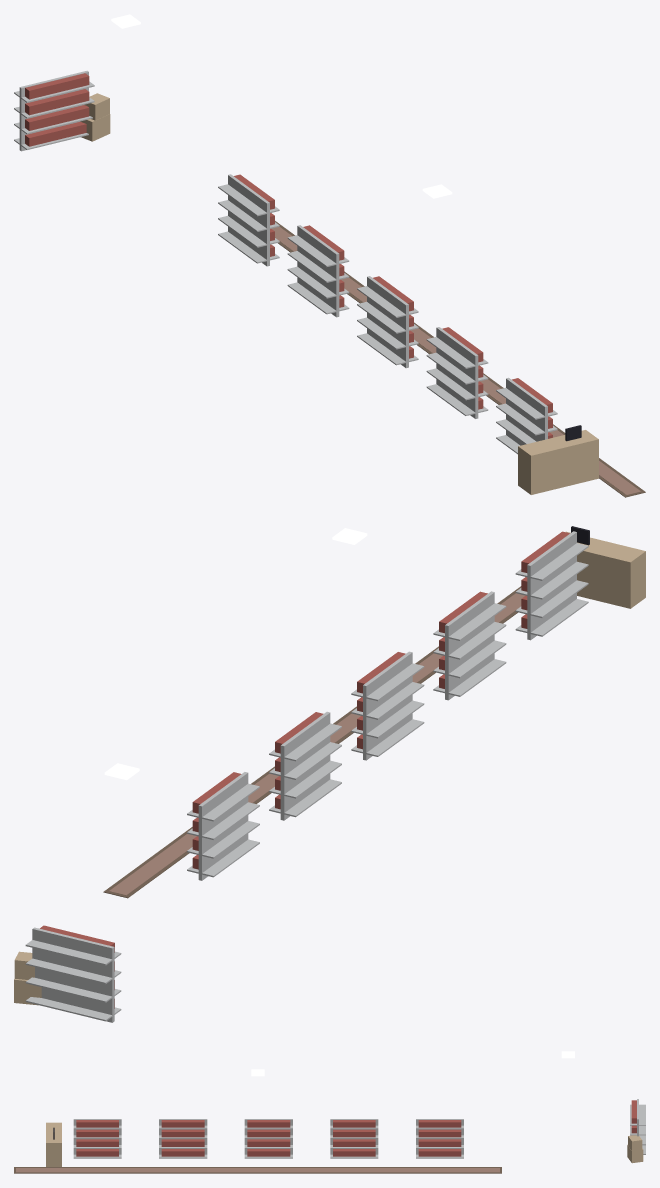
Rendered from fine-s0.glb.
3 views of the same model, one above another, from view 1: azimuth 30°, elevation 25°; view 2: azimuth 150°, elevation 25°; view 3: azimuth 270°, elevation 25° (orthographic). The views are drawn at different scales.
Parts seen in each view (by area): view 1: shelving.000, shop-counter.000, shelf.001, shelf.003, shelf.000, shelf.002, shelf.004, soft-s0, cardboard-box.000; view 2: shelving.000, shelf.000, shelf.004, shelf.003, shelf.001, shelf.002, shop-counter.000, soft-s0, cardboard-box.000; view 3: soft-s0, shelf.001, shelf.002, shelf.003, shelf.004, shelf.000, shop-counter.000, shelving.000, cardboard-box.000.
Part boxes in pixels (<box>): shelving.000: <box>14,70,94,151</box>; shop-counter.000: <box>518,425,598,494</box>; shelf.001: <box>287,225,349,317</box>; shelf.003: <box>426,327,488,418</box>; shelf.000: <box>218,174,279,266</box>; shelf.002: <box>357,276,418,368</box>; shelf.004: <box>496,377,557,454</box>; soft-s0: <box>271,221,645,497</box>; cardboard-box.000: <box>80,93,110,141</box>; shelving.000: <box>25,925,121,1022</box>; shelf.000: <box>187,772,259,880</box>; shelf.004: <box>515,531,588,640</box>; shelf.003: <box>433,591,506,700</box>; shelf.001: <box>269,711,341,820</box>; shelf.002: <box>351,651,424,760</box>; shop-counter.000: <box>565,526,645,608</box>; soft-s0: <box>103,586,525,898</box>; cardboard-box.000: <box>14,951,41,1005</box>; soft-s0: <box>14,1167,501,1173</box>; shelf.001: <box>330,1119,378,1158</box>; shelf.002: <box>244,1119,292,1158</box>; shelf.003: <box>159,1119,207,1158</box>; shelf.004: <box>73,1119,121,1158</box>; shelf.000: <box>416,1119,463,1158</box>; shop-counter.000: <box>46,1122,61,1166</box>; shelving.000: <box>630,1099,645,1154</box>; cardboard-box.000: <box>627,1135,643,1163</box>.
Size of the model in its own units: 3.16 by 4.05 by 23.63.
